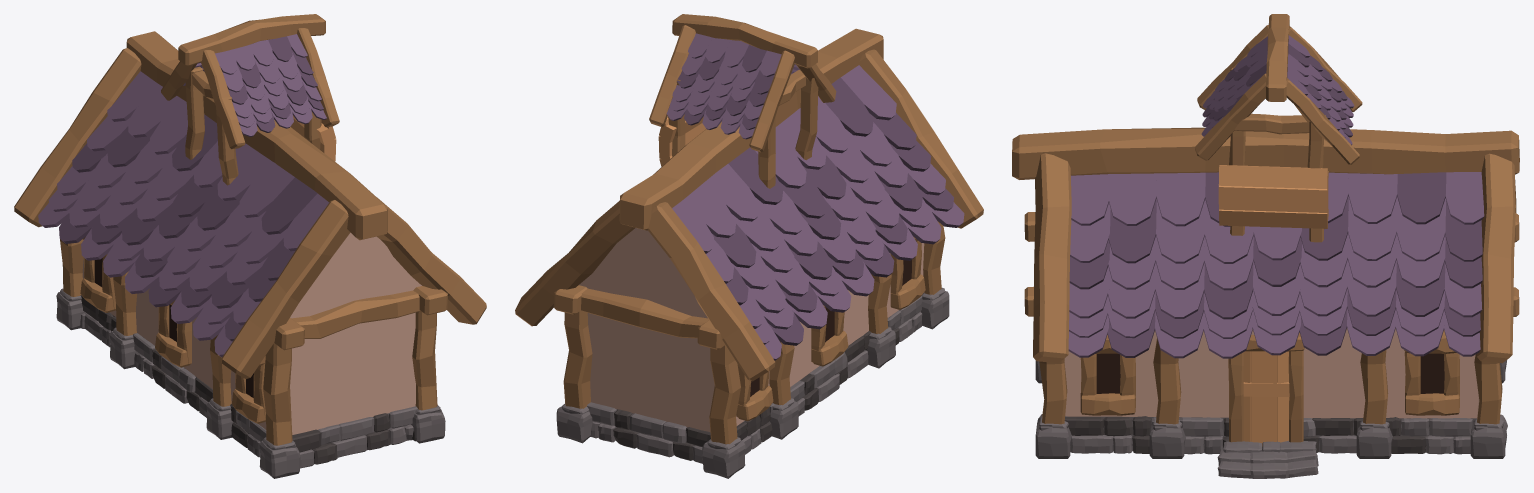
The model's file is BankBuilding.fbx.
3 renders of one model, left to right at view 1: azimuth 30°, elevation 25°; view 2: azimuth 150°, elevation 25°; view 3: azimuth 270°, elevation 25°, orthographic. The views are drawn at different scales.
Parts seen in each view (by area): view 1: BEAM.105, BEAM.499, BEAM.401, BEAM.552, BEAM.398, BEAM.399, BEAM.397, BEAM.550, BEAM.394, BEAM.377, BEAM.365, BEAM.502 (+44 smaller); view 2: BEAM.105, BEAM.500, BEAM.551, BEAM.401, BEAM.399, BEAM.400, BEAM.398, BEAM.395, BEAM.550, BEAM.386, BEAM.374, BEAM.502 (+45 smaller); view 3: BEAM.104, BEAM.401, BEAM.501, BEAM.397, BEAM.400, BEAM.555, BEAM.531, BEAM.551, BEAM.552, BEAM.112, BEAM.111, BEAM.114 (+57 smaller).
Part boxes in pixels (left/top/right/bottom): BEAM.105: left=38, top=71, right=249, bottom=293; BEAM.499: left=290, top=232, right=421, bottom=450; BEAM.401: left=126, top=31, right=387, bottom=240; BEAM.552: left=215, top=34, right=326, bottom=136; BEAM.398: left=221, top=200, right=350, bottom=378; BEAM.399: left=14, top=48, right=141, bottom=227; BEAM.397: left=377, top=197, right=486, bottom=324; BEAM.550: left=178, top=14, right=325, bottom=65; BEAM.394: left=291, top=290, right=420, bottom=338; BEAM.377: left=263, top=343, right=292, bottom=445; BEAM.365: left=412, top=311, right=437, bottom=410; BEAM.502: left=82, top=257, right=266, bottom=457; BEAM.105: left=672, top=132, right=874, bottom=360; BEAM.500: left=579, top=228, right=714, bottom=445; BEAM.551: left=666, top=33, right=781, bottom=139; BEAM.401: left=619, top=28, right=883, bottom=230; BEAM.399: left=648, top=202, right=775, bottom=381; BEAM.400: left=515, top=200, right=635, bottom=326; BEAM.398: left=859, top=49, right=983, bottom=228; BEAM.395: left=580, top=288, right=708, bottom=338; BEAM.550: left=672, top=14, right=817, bottom=68; BEAM.386: left=709, top=345, right=740, bottom=444; BEAM.374: left=563, top=311, right=592, bottom=408; BEAM.502: left=736, top=243, right=924, bottom=425; BEAM.104: left=1252, top=172, right=1484, bottom=356; BEAM.401: left=1012, top=127, right=1519, bottom=179; BEAM.501: left=1064, top=328, right=1478, bottom=452; BEAM.397: left=1033, top=153, right=1071, bottom=363; BEAM.400: left=1477, top=153, right=1515, bottom=363; BEAM.555: left=1218, top=165, right=1328, bottom=228; BEAM.531: left=1243, top=351, right=1289, bottom=446; BEAM.551: left=1287, top=35, right=1354, bottom=145; BEAM.552: left=1201, top=36, right=1267, bottom=136; BEAM.112: left=1156, top=172, right=1205, bottom=226; BEAM.111: left=1109, top=173, right=1156, bottom=225; BEAM.114: left=1156, top=199, right=1205, bottom=263.
Bounding box in the file's own units: 831 × 1103 × 1337.
